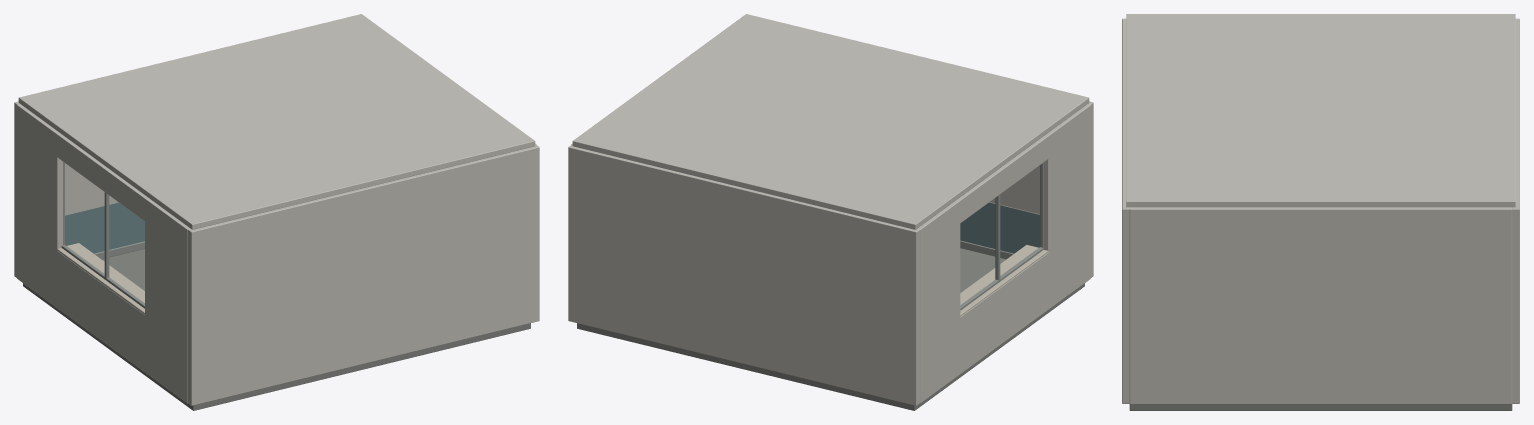
File: room-shell.glb
3 views of the same model, side by side, from view 1: azimuth 30°, elevation 25°; view 2: azimuth 150°, elevation 25°; view 3: azimuth 270°, elevation 25° (orthographic). The views are drawn at different scales.
Parts seen in each view (by area): view 1: room_plaster, room_floor, room_paint, room_trim, room_cream; view 2: room_plaster, room_floor, room_paint, room_trim, room_cream; view 3: room_plaster, room_floor.
Part boxes in pixels (x1=…): room_plaster: x1=14, y1=14, x2=539, y2=405; room_floor: x1=23, y1=249, x2=530, y2=410; room_paint: x1=65, y1=203, x2=144, y2=253; room_trim: x1=61, y1=162, x2=144, y2=308; room_cream: x1=57, y1=243, x2=144, y2=314; room_plaster: x1=568, y1=14, x2=1093, y2=405; room_floor: x1=577, y1=248, x2=1084, y2=410; room_paint: x1=960, y1=203, x2=1039, y2=253; room_trim: x1=960, y1=163, x2=1043, y2=310; room_cream: x1=960, y1=244, x2=1048, y2=316; room_plaster: x1=1122, y1=14, x2=1519, y2=404; room_floor: x1=1129, y1=404, x2=1512, y2=410.
Size of the model in its own units: 6.62 by 3.41 by 5.82.
